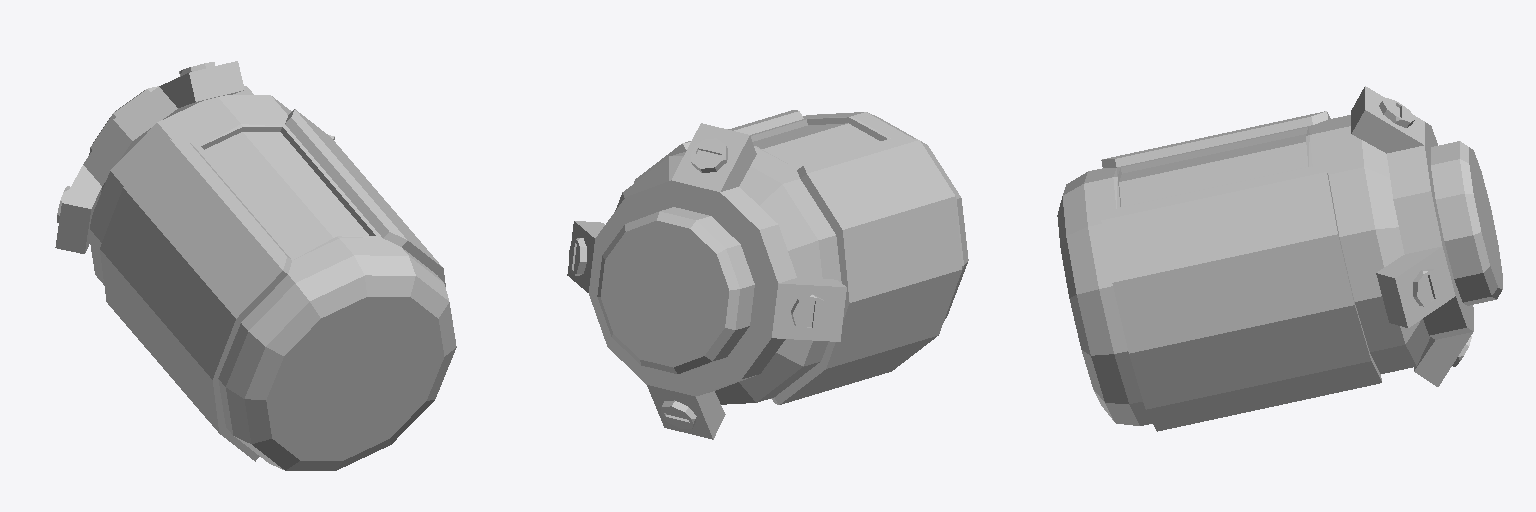
The model's file is Pickup_Tank_Cylinder_004.obj.
3 renders of one model, left to right at view 1: azimuth 30°, elevation 25°; view 2: azimuth 150°, elevation 25°; view 3: azimuth 270°, elevation 25°, orthographic.
Visible parts, largest first — view 1: Pickup_Tank_Cylinder.004; view 2: Pickup_Tank_Cylinder.004; view 3: Pickup_Tank_Cylinder.004.
Part boxes in pixels (bbox=[...]): Pickup_Tank_Cylinder.004: bbox=[55, 61, 456, 470]; Pickup_Tank_Cylinder.004: bbox=[567, 110, 968, 439]; Pickup_Tank_Cylinder.004: bbox=[1057, 86, 1502, 431].
Bounding box in the file's own units: 0.2007 × 0.2221 × 0.2833.